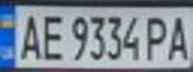3: (87, 12, 109, 62), (103, 11, 124, 61)
4: (121, 11, 145, 62)
9: (66, 11, 90, 62)
A: (15, 9, 45, 61), (163, 11, 193, 62)
E: (36, 10, 66, 62)
P: (142, 11, 172, 62)
